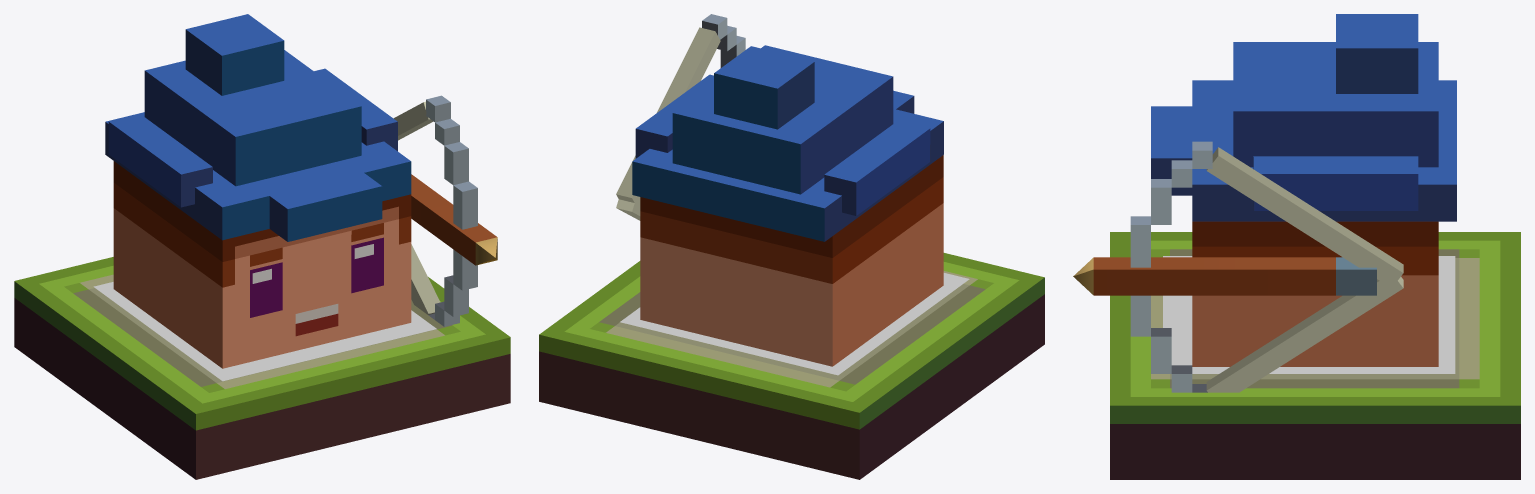
Rendered from Tower_Archer_V2.fbx.
The picture shows the model from 3 angles, left to right: view 1: azimuth 30°, elevation 25°; view 2: azimuth 150°, elevation 25°; view 3: azimuth 270°, elevation 25°; orthographic projection. The views are drawn at different scales.
Visible parts, largest first — view 1: Base, Hat, Body, Bow, Shadow, Arrow, StringBot, StringTop; view 2: Base, Hat, Body, Shadow, StringTop, Bow; view 3: Base, Hat, Body, Arrow, Bow, StringTop, Shadow, StringBot.
Boxes of the visible parts, <box> form: Base: <box>14,257,510,479</box>; Hat: <box>105,14,411,241</box>; Body: <box>113,161,411,368</box>; Bow: <box>426,95,477,326</box>; Shadow: <box>93,282,436,381</box>; Arrow: <box>411,174,497,265</box>; StringBot: <box>411,244,440,314</box>; StringTop: <box>393,101,433,140</box>; Base: <box>539,253,1044,479</box>; Hat: <box>632,45,943,241</box>; Body: <box>640,155,943,366</box>; Shadow: <box>620,273,969,375</box>; StringTop: <box>616,27,720,202</box>; Bow: <box>702,14,745,67</box>; Base: <box>1110,232,1520,479</box>; Hat: <box>1151,14,1456,221</box>; Body: <box>1192,221,1438,366</box>; Arrow: <box>1073,257,1376,295</box>; Bow: <box>1130,141,1212,392</box>; StringTop: <box>1206,147,1403,287</box>; Shadow: <box>1163,256,1455,373</box>; StringBot: <box>1206,273,1403,392</box>.
Bounding box in the file's own units: 100 × 97.18 × 109.
